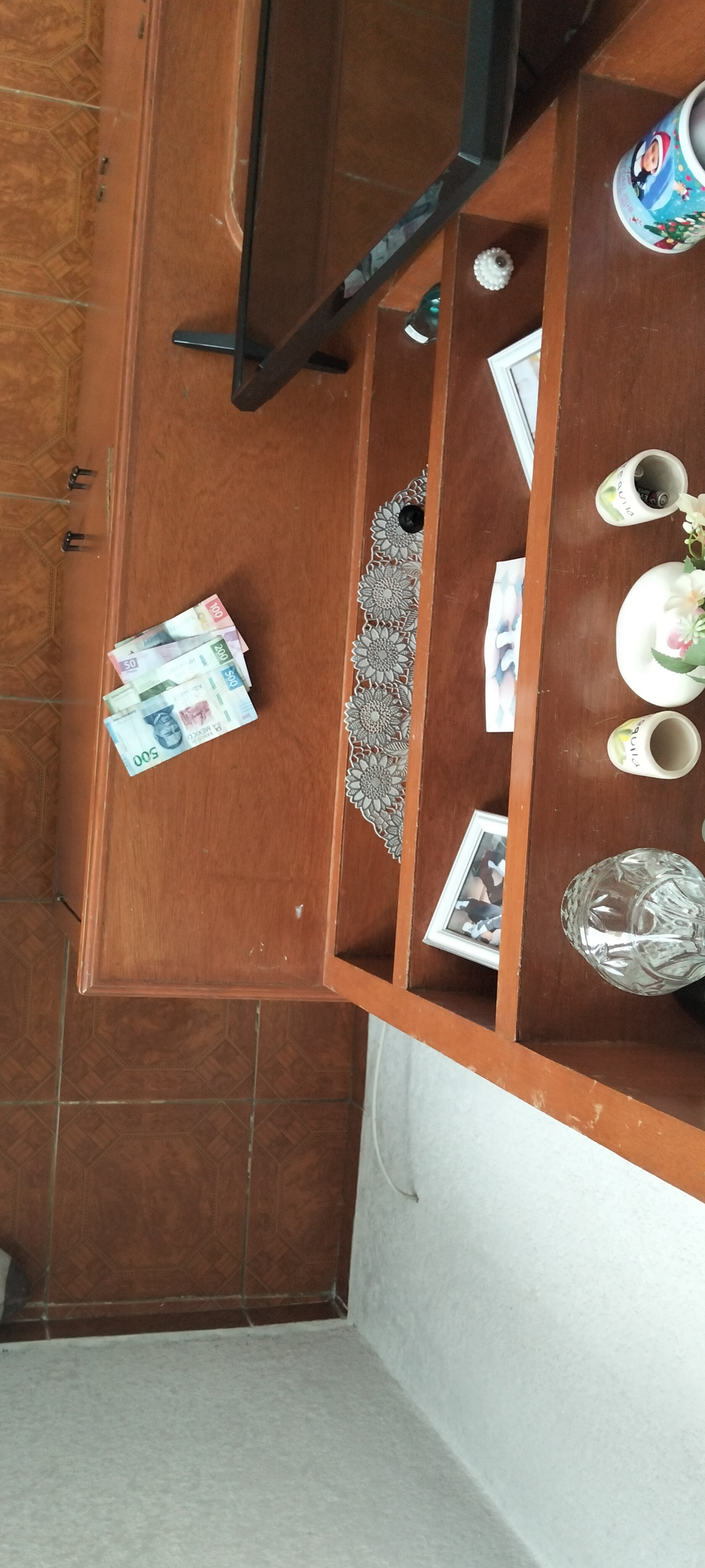billetes: (93, 569, 283, 802)
